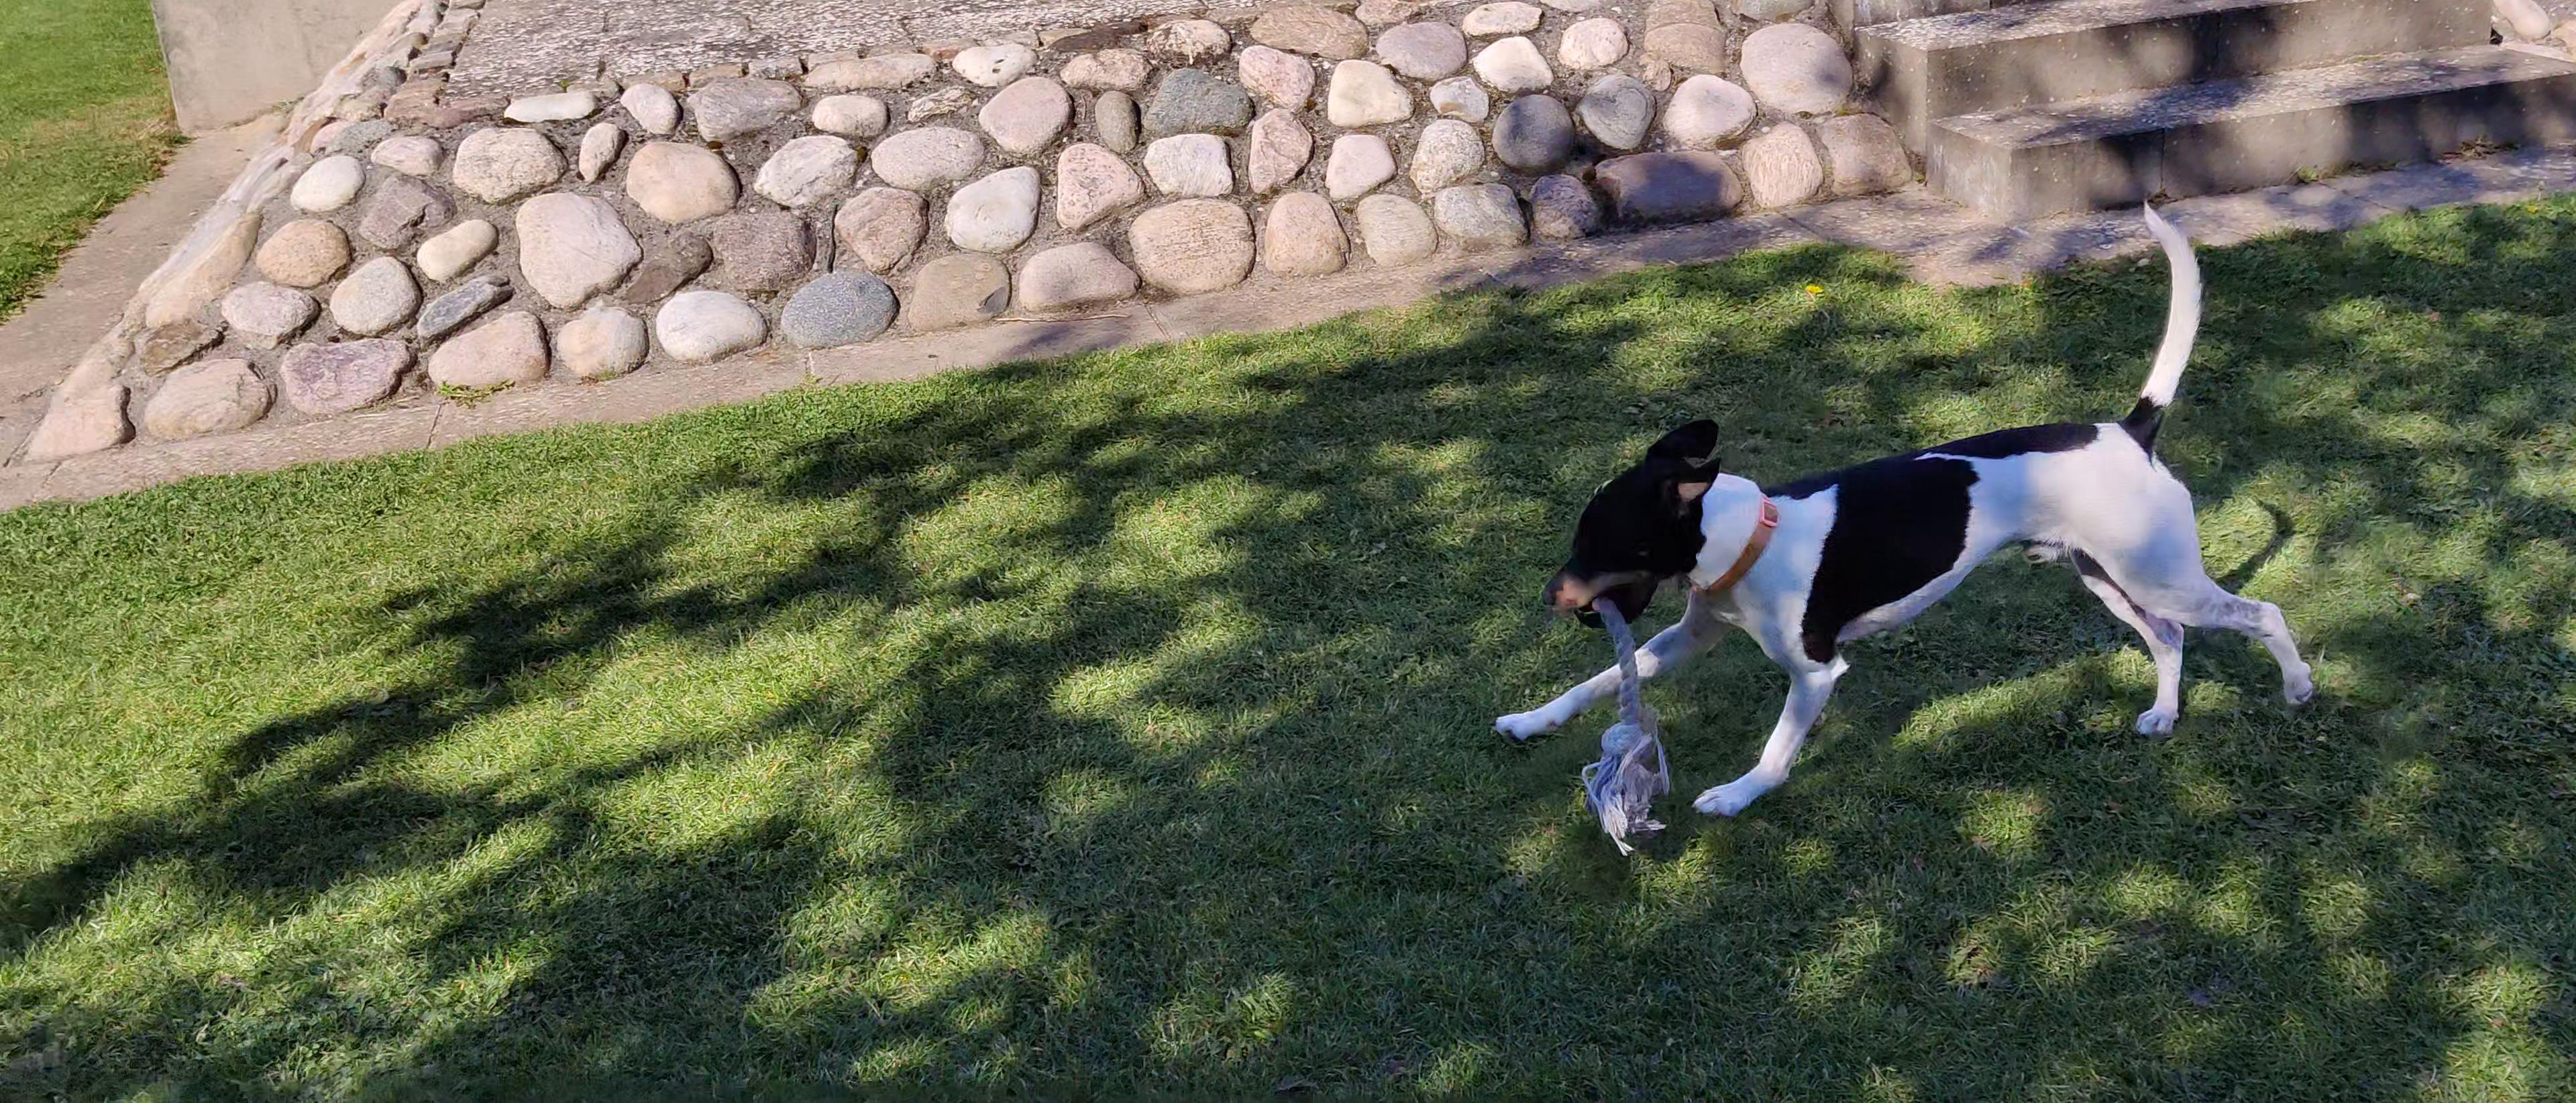Dog: (1467, 187, 2328, 822)
